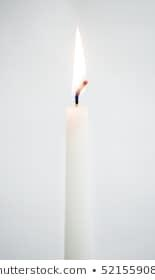fire: (70, 78, 88, 102)
